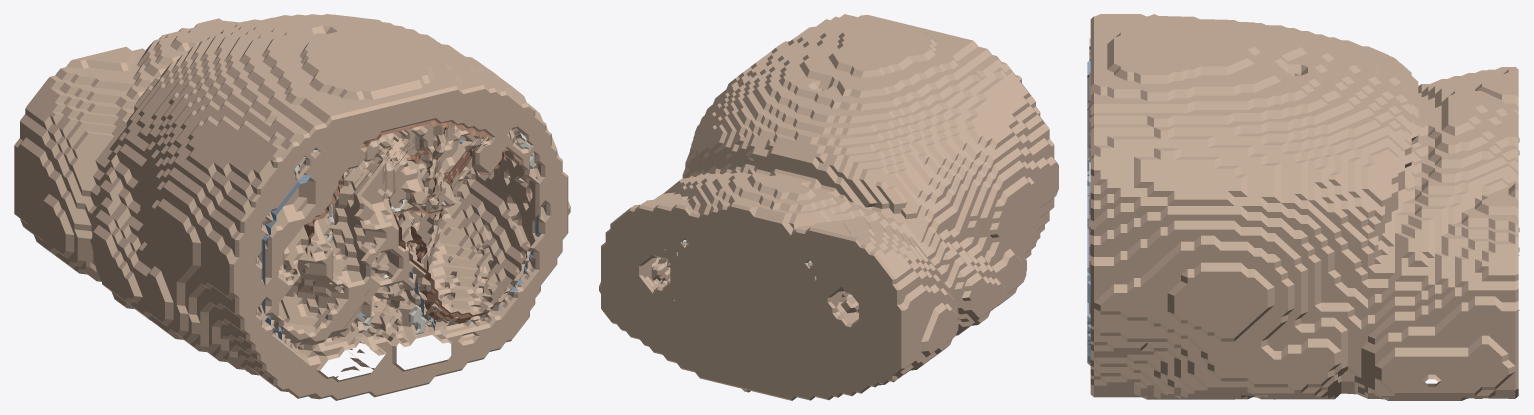
The model's file is lumbopelvis.glb.
The picture shows the model from 3 angles, left to right: view 1: azimuth 30°, elevation 25°; view 2: azimuth 150°, elevation 25°; view 3: azimuth 270°, elevation 25°; orthographic projection. The views are drawn at different scales.
Parts seen in each view (by area): view 1: world; view 2: world; view 3: world.
Part boxes in pixels (<box>): world: <box>14,14,570,400</box>; world: <box>599,14,1058,400</box>; world: <box>1087,14,1519,400</box>.
Size of the model in its own units: 411 by 312 by 388.
